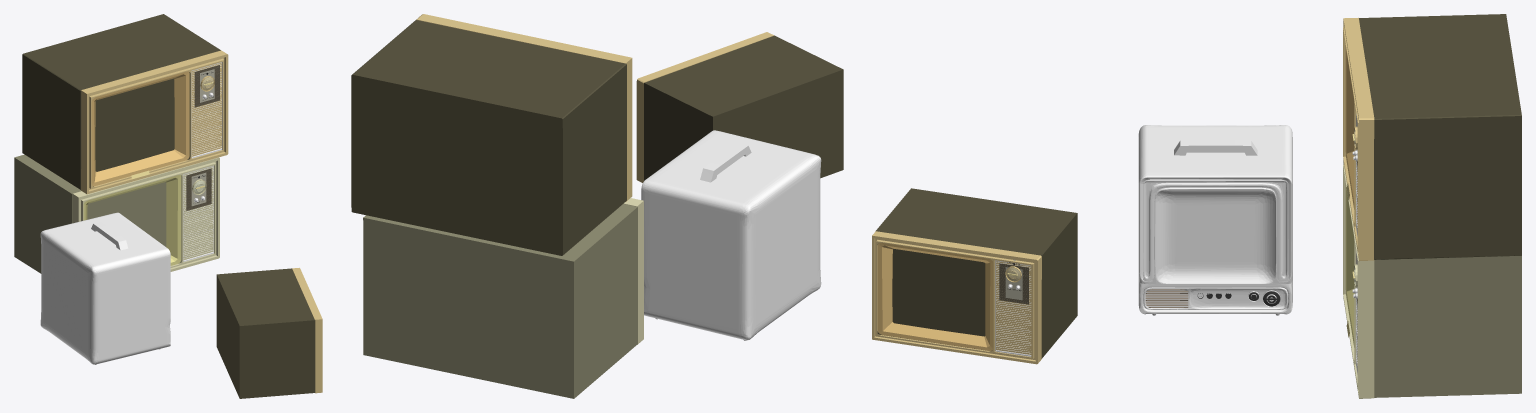
File: basicTvSet.glb
3 views of the same model, side by side, from view 1: azimuth 30°, elevation 25°; view 2: azimuth 150°, elevation 25°; view 3: azimuth 270°, elevation 25° (orthographic). The views are drawn at different scales.
Parts seen in each view (by area): view 1: Cube.013, Cube.021, Cube.003, Cube.008, Cube.015, Cube.006, Cube.014, Cube.007, Plane.018, Plane.009, Cube.005, Plane.010 (+4 smaller); view 2: Cube.013, Cube.008, Cube.021, Cube.003, Cube.015, Cube.005, Cube.006; view 3: Cube.013, Cube.021, Cube.008, Cube.003, Cube.005, Cube.015, Cube.004, Cube.006, Plane.005, Cube.014, Cube.007, Cube.020 (+1 smaller).
Part boxes in pixels (x1,y1,x2,y2): Cube.013: [22, 14, 220, 189]; Cube.021: [40, 212, 170, 364]; Cube.003: [216, 268, 315, 398]; Cube.008: [14, 154, 182, 273]; Cube.015: [81, 50, 228, 194]; Cube.006: [73, 157, 219, 271]; Cube.014: [91, 71, 189, 186]; Cube.007: [83, 175, 181, 265]; Plane.018: [191, 62, 222, 158]; Plane.009: [183, 165, 213, 261]; Cube.005: [292, 268, 322, 393]; Plane.010: [186, 168, 211, 210]; Cube.013: [351, 20, 626, 255]; Cube.008: [363, 204, 637, 398]; Cube.021: [641, 130, 821, 340]; Cube.003: [644, 35, 843, 180]; Cube.015: [416, 14, 632, 201]; Cube.005: [636, 32, 773, 182]; Cube.006: [623, 198, 643, 344]; Cube.013: [1359, 14, 1521, 259]; Cube.021: [1138, 125, 1292, 314]; Cube.008: [1374, 256, 1521, 397]; Cube.003: [875, 188, 1077, 358]; Cube.005: [872, 231, 1041, 364]; Cube.015: [1343, 17, 1374, 261]; Cube.004: [877, 243, 993, 350]; Cube.006: [1343, 161, 1374, 398]; Plane.005: [995, 260, 1031, 356]; Cube.014: [1345, 46, 1354, 209]; Cube.007: [1345, 184, 1354, 347]; Cube.020: [1145, 289, 1188, 307].
Size of the model in its own units: 6.2 by 5.78 by 11.59.
